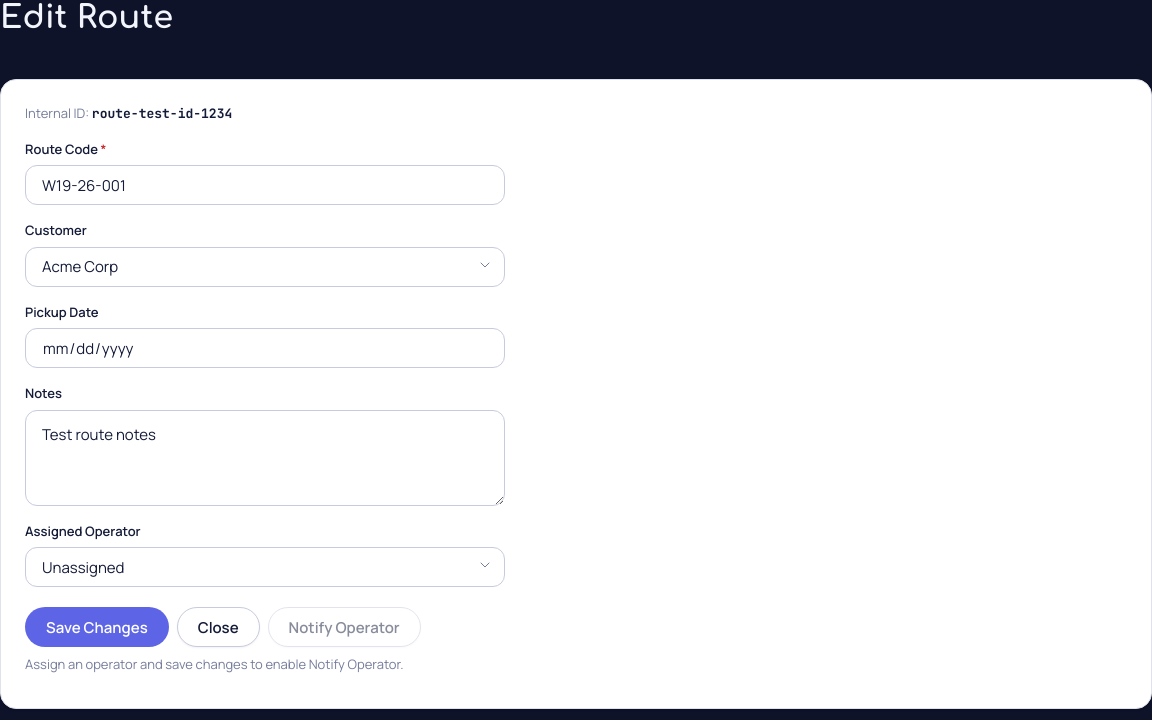
Administrator Route Edit Page › Route Code clash › warns, with a link to the other Route, when the code is another Route's
Replace the text in the field labelled "Route Code *" with "w19-26-002 " at (265, 185), box 25,165 -> 505,205
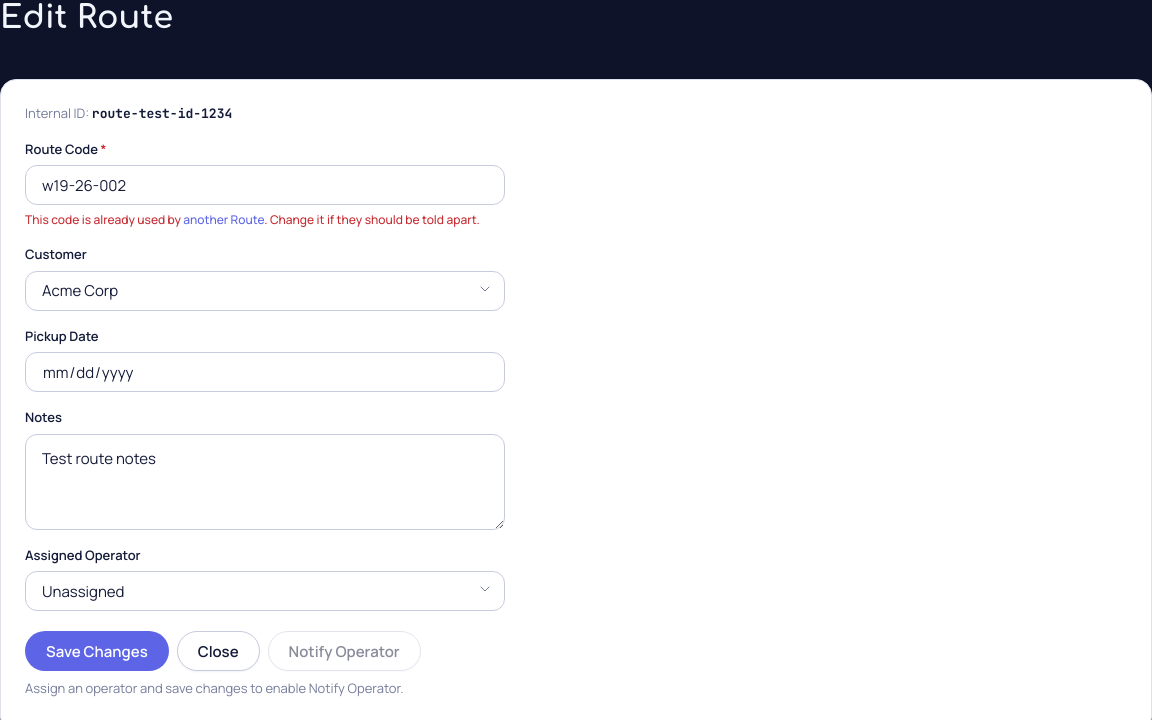
Expected: the text "This code is already used by" is shown, 25,211 -> 181,228
